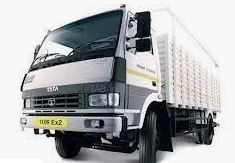truck: (14, 1, 230, 161)
